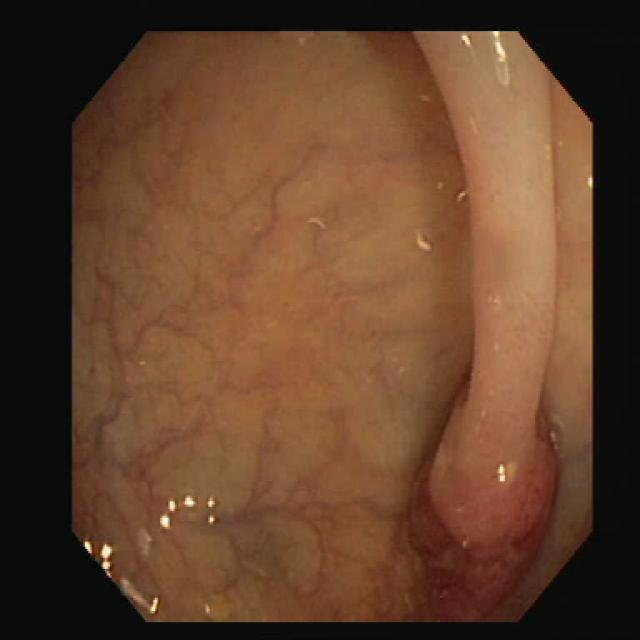tumor: (408, 418, 558, 618)
